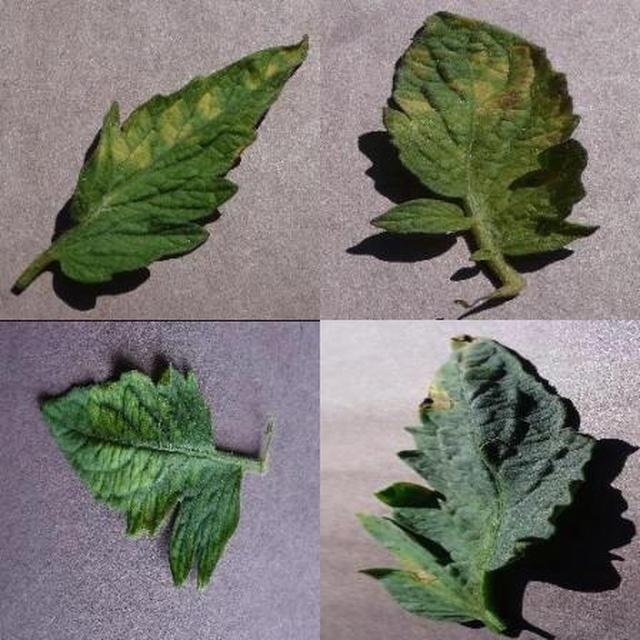Leaf Mold: (200, 191, 640, 640)
